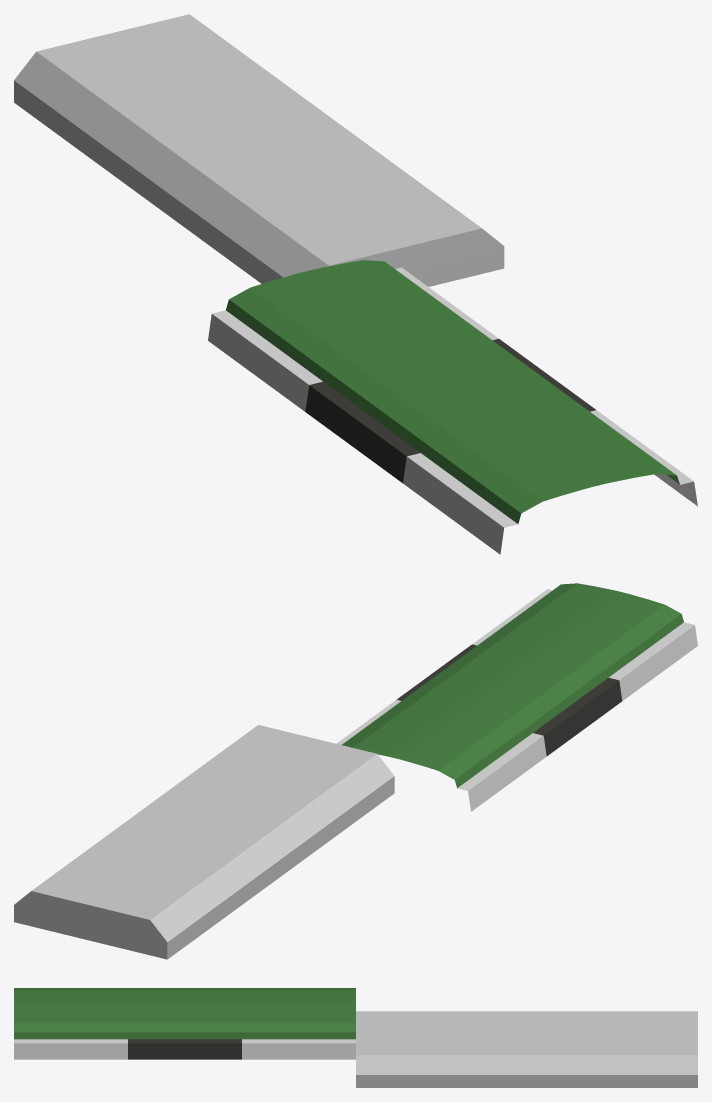
File: SM_Factory_Green_space_Middle.fbx
3 views of the same model, one above another, from view 1: azimuth 30°, elevation 25°; view 2: azimuth 150°, elevation 25°; view 3: azimuth 270°, elevation 25° (orthographic). The views are drawn at different scales.
Parts seen in each view (by area): view 1: SM_Factory_Green_space_Middle_ConvexHulls, SM_Factory_Green_space_Middle; view 2: SM_Factory_Green_space_Middle_ConvexHulls, SM_Factory_Green_space_Middle; view 3: SM_Factory_Green_space_Middle_ConvexHulls, SM_Factory_Green_space_Middle.
Boxes of the visible parts, x1,y1,x2,y2 form: SM_Factory_Green_space_Middle_ConvexHulls: [14, 14, 504, 286]; SM_Factory_Green_space_Middle: [208, 260, 697, 554]; SM_Factory_Green_space_Middle_ConvexHulls: [14, 725, 394, 959]; SM_Factory_Green_space_Middle: [336, 583, 697, 811]; SM_Factory_Green_space_Middle_ConvexHulls: [356, 1011, 697, 1087]; SM_Factory_Green_space_Middle: [14, 988, 355, 1059].
Size of the model in its own units: 293 by 1000 by 43.03.
2 materials, 1 textured.
